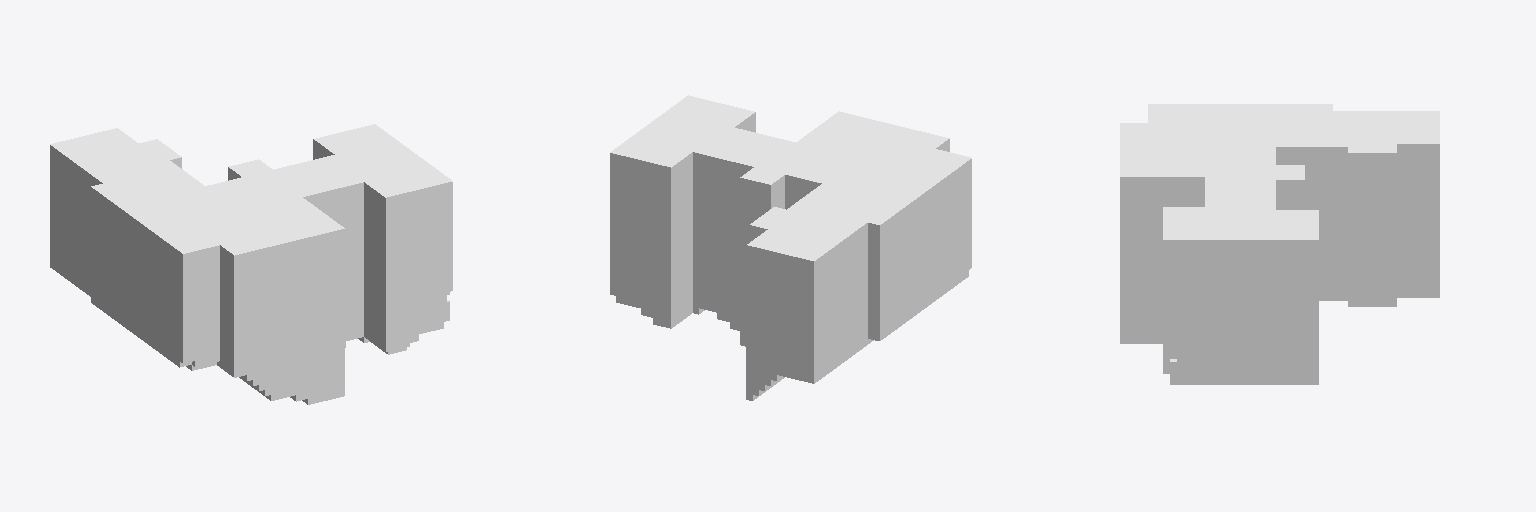
File: FloatingIsland1.obj
3 views of the same model, side by side, from view 1: azimuth 30°, elevation 25°; view 2: azimuth 150°, elevation 25°; view 3: azimuth 270°, elevation 25° (orthographic).
Size of the model in its own units: 45 by 26 by 45.